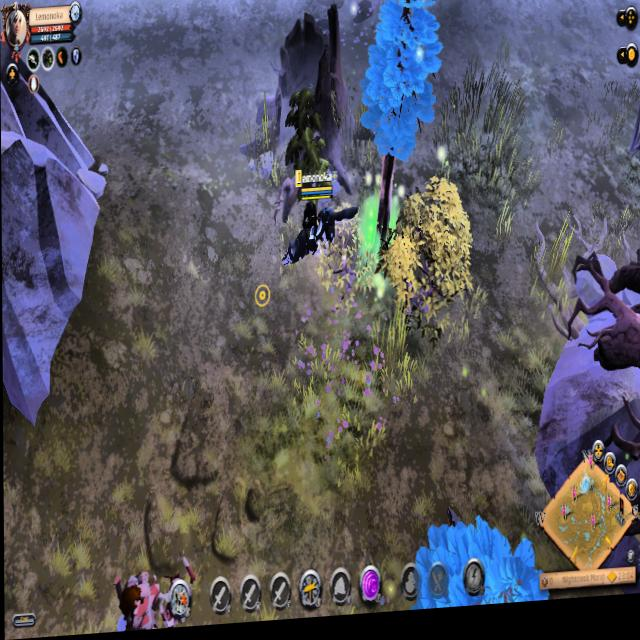wood tier 4: (360, 0, 444, 175)
